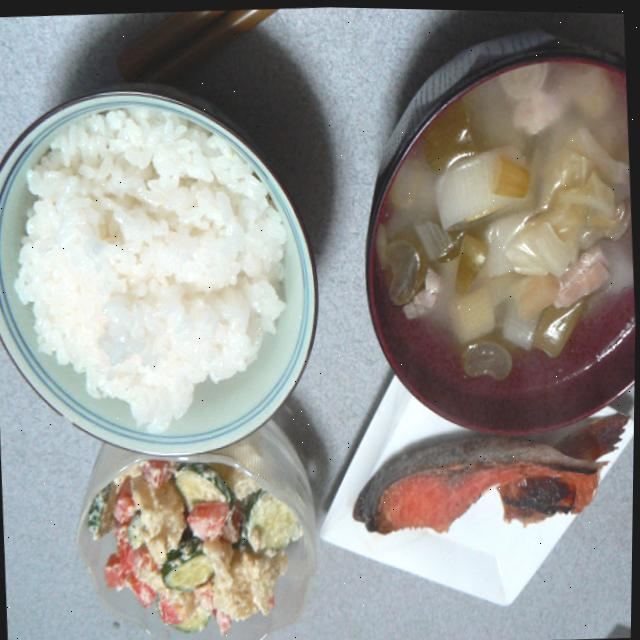米饭主食: (0, 81, 313, 452)
